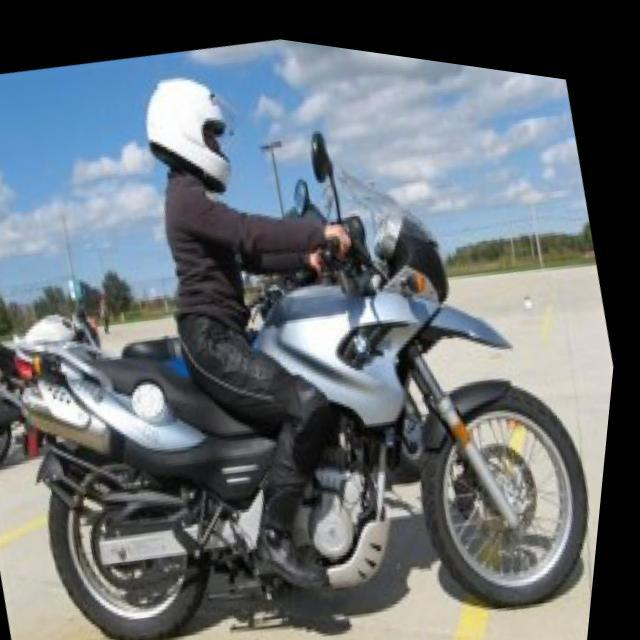Helmet: (130, 67, 243, 200)
